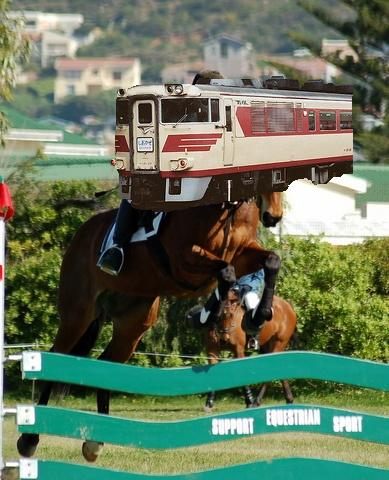tampered: (112, 77, 353, 212)
